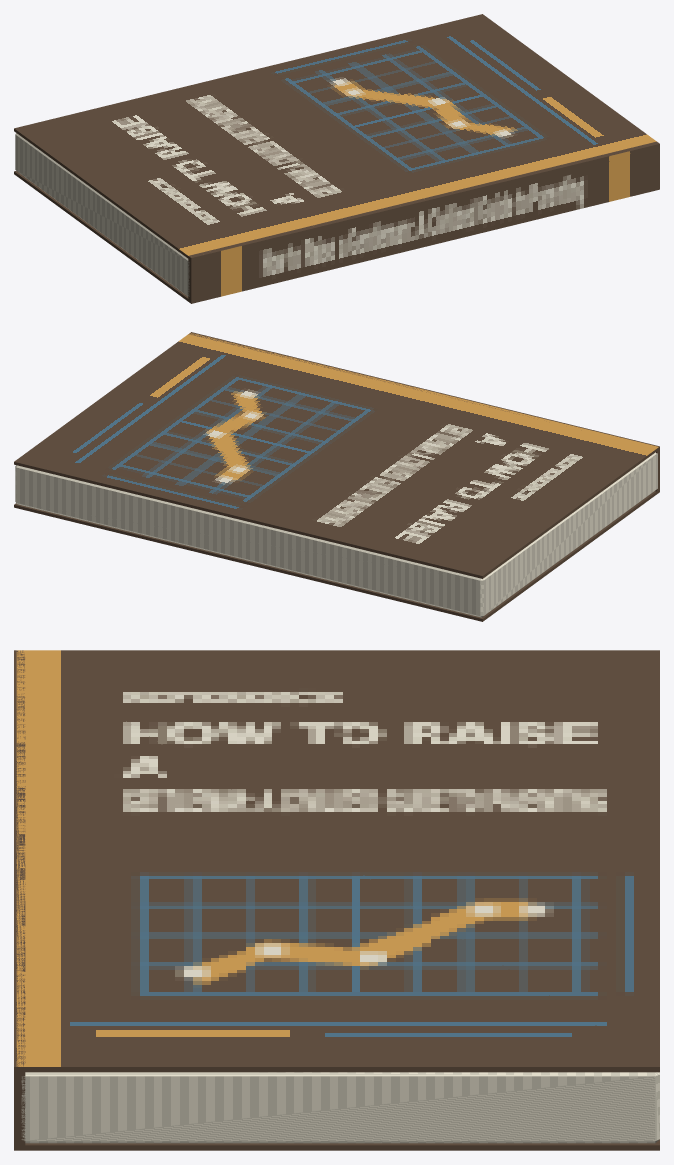
The model's file is book_nonf_soft_parent_howtogen.glb.
The picture shows the model from 3 angles, top to bottom: view 1: azimuth 30°, elevation 25°; view 2: azimuth 150°, elevation 25°; view 3: azimuth 270°, elevation 25°; orthographic projection. The views are drawn at different scales.
Parts seen in each view (by area): view 1: block_front, block_spine, block_pages, block_back; view 2: block_front, block_pages, block_back, block_spine; view 3: block_front, block_pages, block_back, block_spine.
Boxes of the visible parts, x1,y1,x2,y2 form: block_front: (14,14,656,259); block_spine: (188,141,659,303); block_pages: (15,133,189,296); block_back: (14,171,190,302); block_front: (14,332,659,578); block_pages: (15,452,657,617); block_back: (14,490,659,621); block_spine: (188,332,659,492); block_front: (16,650,659,1072); block_pages: (21,1072,659,1143); block_back: (17,1139,659,1150); block_spine: (14,650,25,1150).
Size of the model in its own units: 0.196 by 0.0183 by 0.1285.
Materials: 1 (1 with a texture image).
